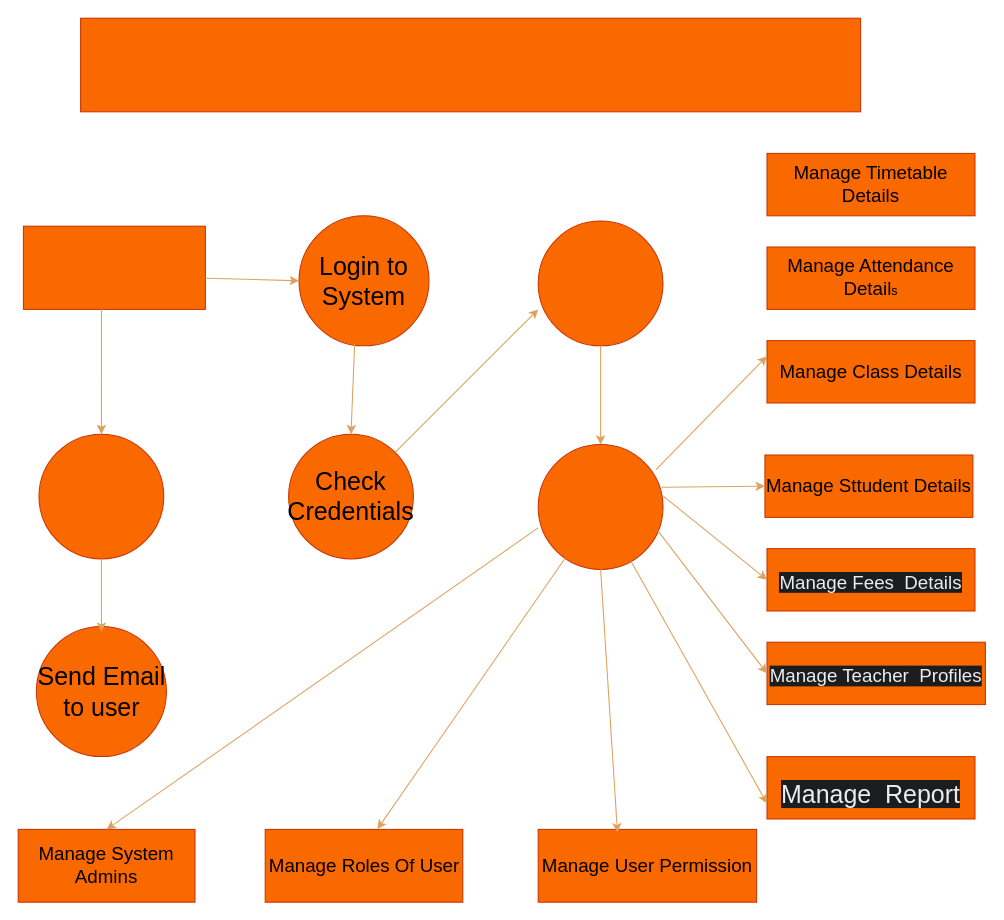
The diagram is 1004 pixels wide and 920 high, and some of its shapes have lost their labels. The shapes that lost their labels are listed below. From the top down, each one's centre as x and y in pixels, then its label:
At point 470,64: "Student Information System".
At point 113,267: "Admin".
At point 600,283: "Check Rules of Access".
At point 101,496: "Forgot Password".
At point 600,506: "Manage Modules".
